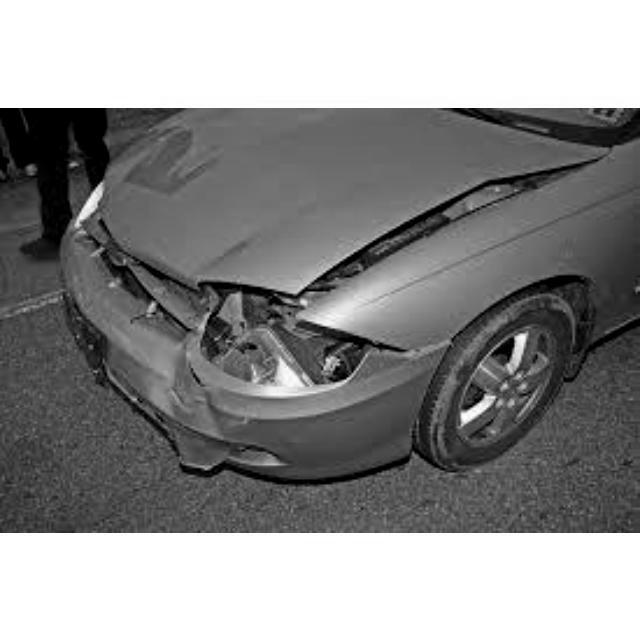bonnet-dent: (126, 119, 542, 270)
front-bumper-dent: (63, 291, 312, 453)
